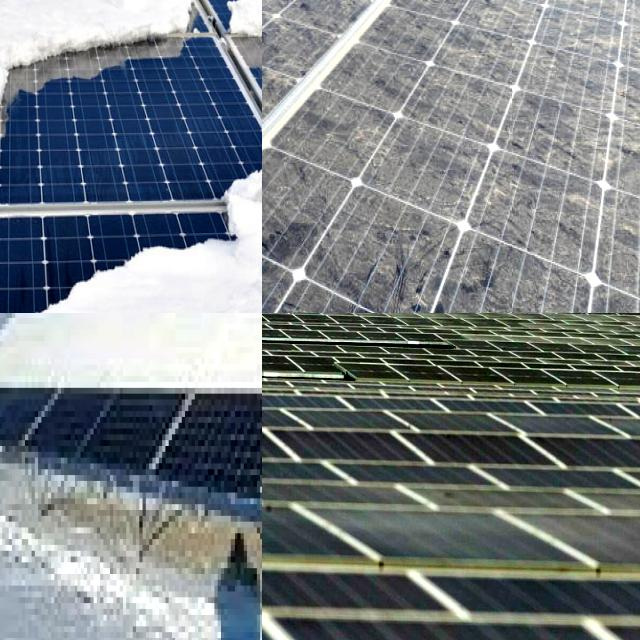dust: (455, 58, 590, 268), (353, 74, 448, 233), (262, 7, 308, 268), (264, 29, 344, 164), (262, 0, 320, 135), (328, 511, 516, 548), (262, 167, 334, 262), (458, 0, 590, 50), (262, 0, 358, 50), (445, 281, 587, 313), (262, 504, 348, 553), (603, 79, 640, 192), (604, 220, 640, 313), (560, 513, 640, 552), (601, 0, 640, 57), (372, 0, 422, 27)
panel: (0, 218, 262, 313), (0, 0, 193, 76), (104, 313, 229, 397), (0, 159, 57, 313), (0, 313, 83, 400), (0, 71, 71, 172), (234, 72, 262, 239), (0, 0, 172, 21), (0, 0, 61, 26)
